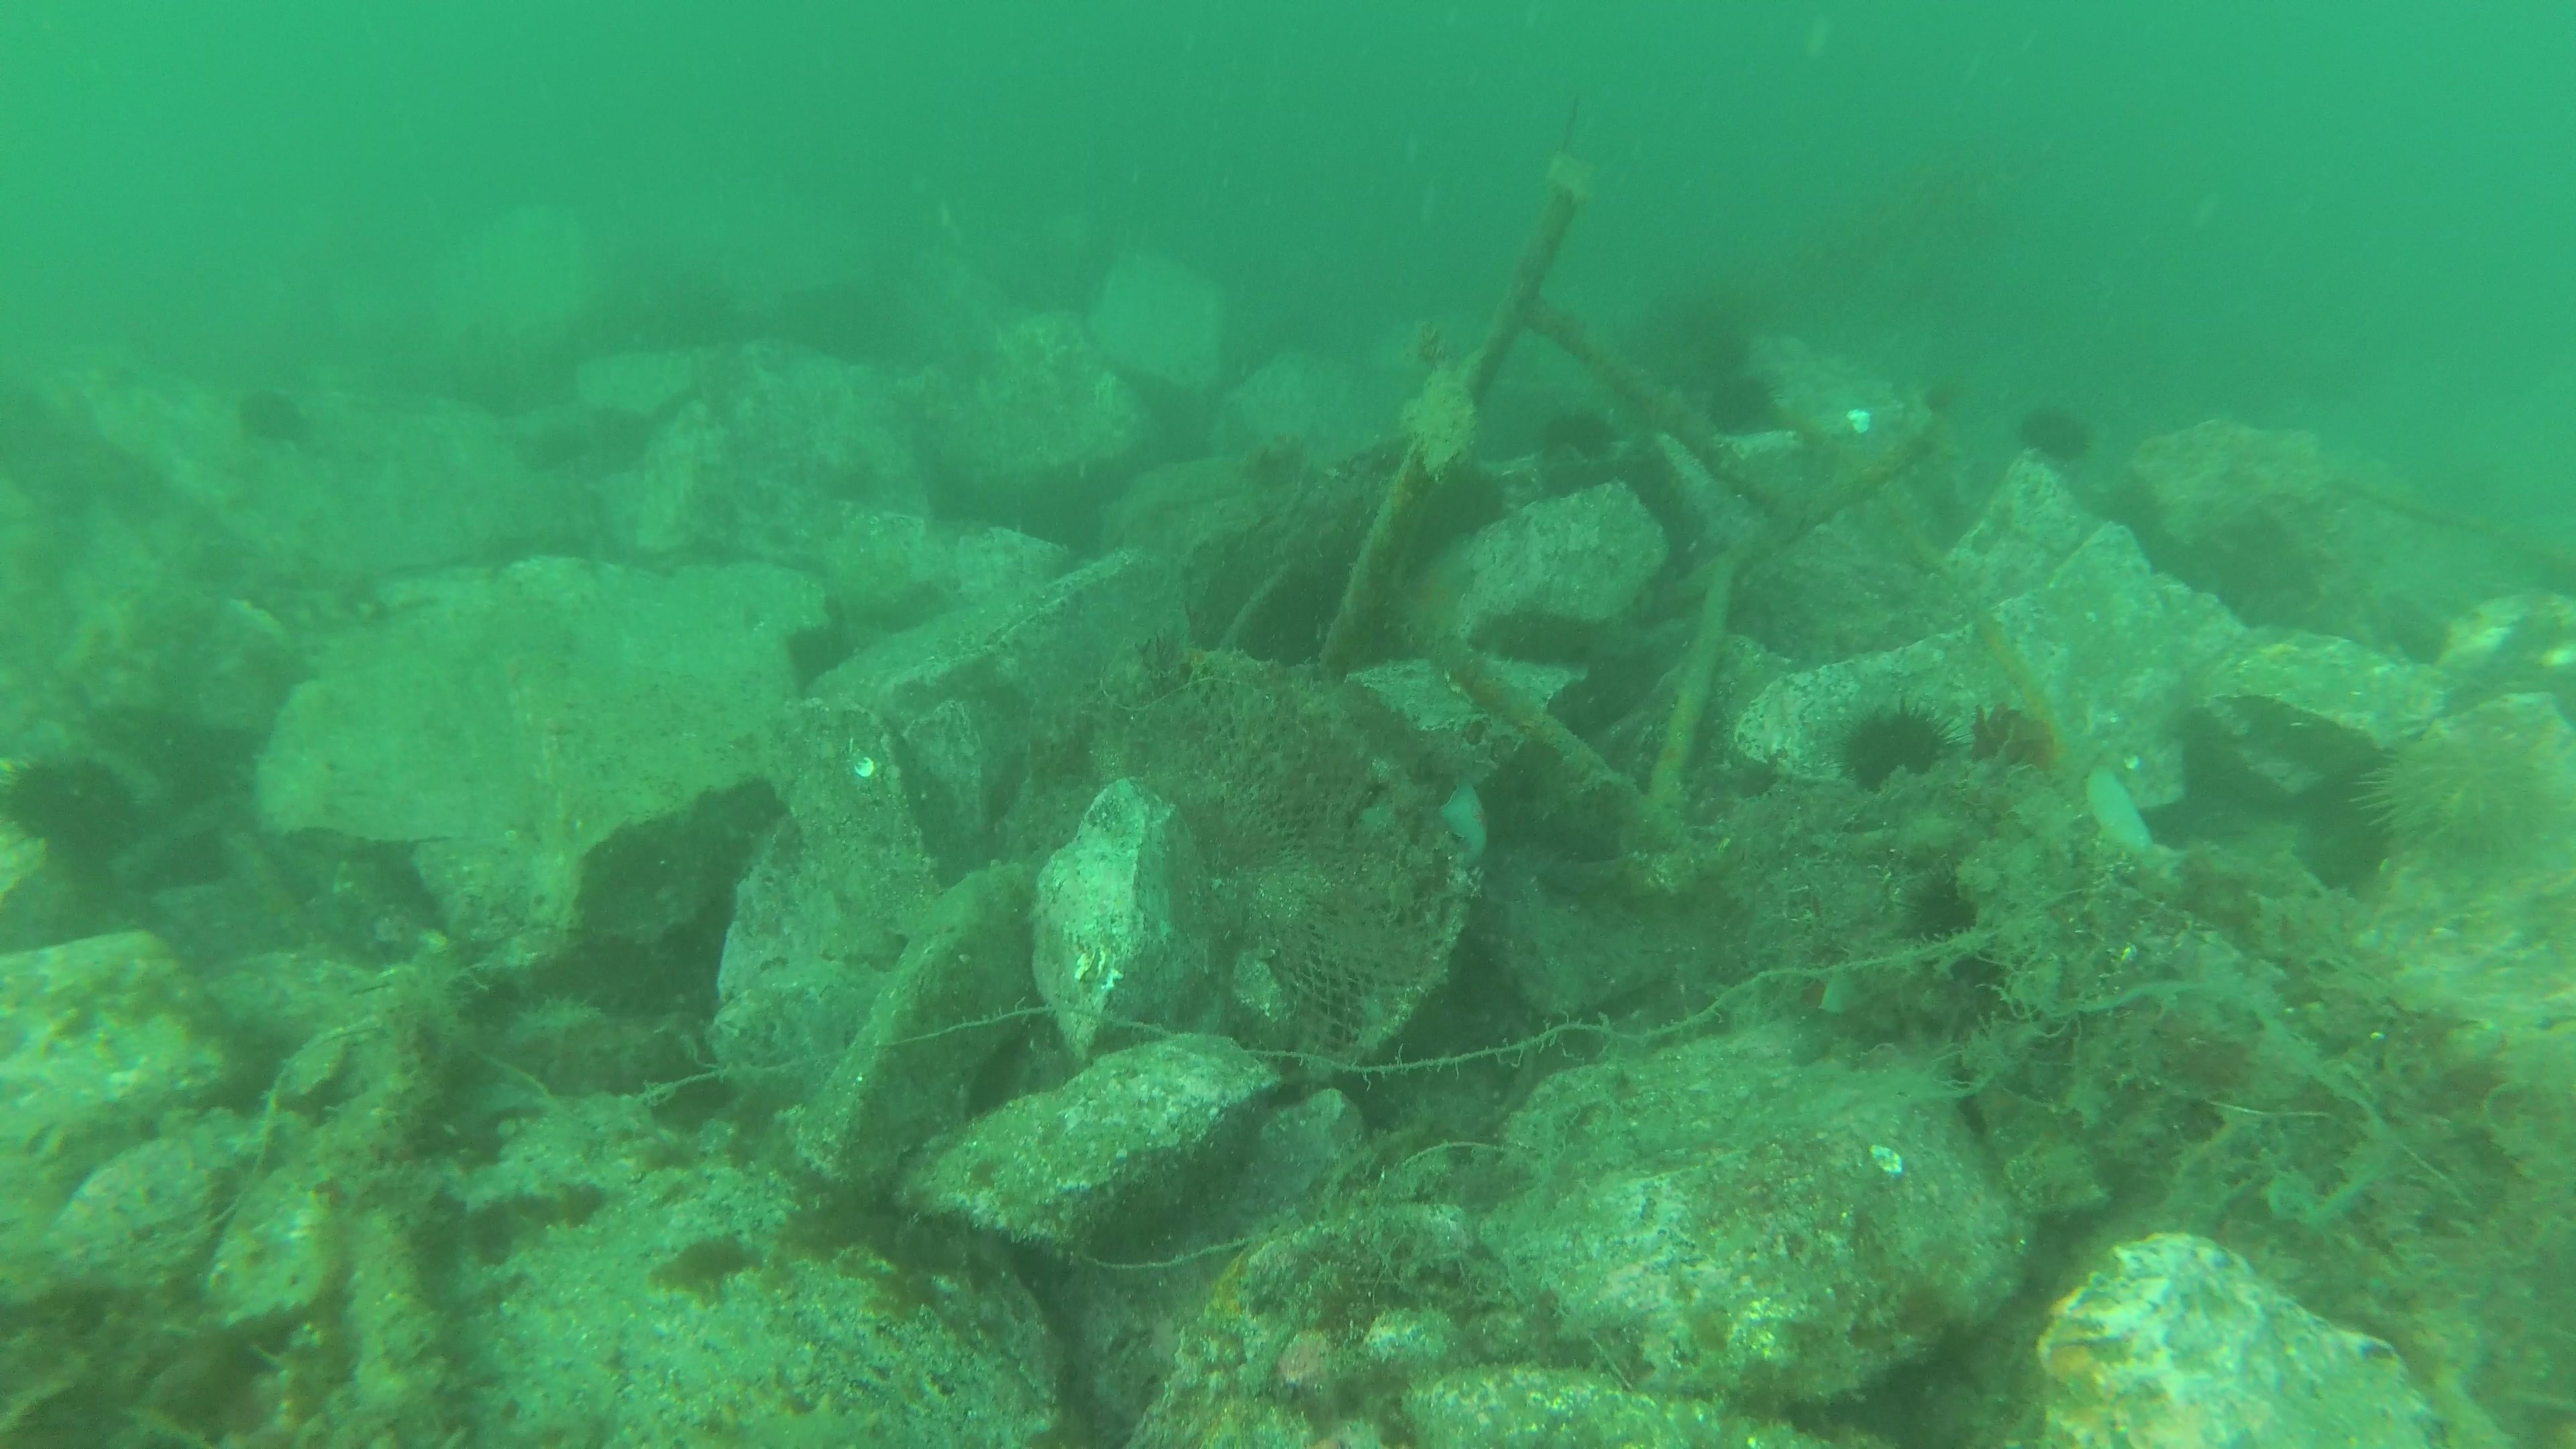echinus: (2357, 718, 2562, 874), (0, 750, 150, 862), (1826, 701, 1960, 821), (228, 380, 317, 455), (1539, 400, 1621, 478), (2019, 403, 2102, 479), (1709, 372, 1782, 453)
